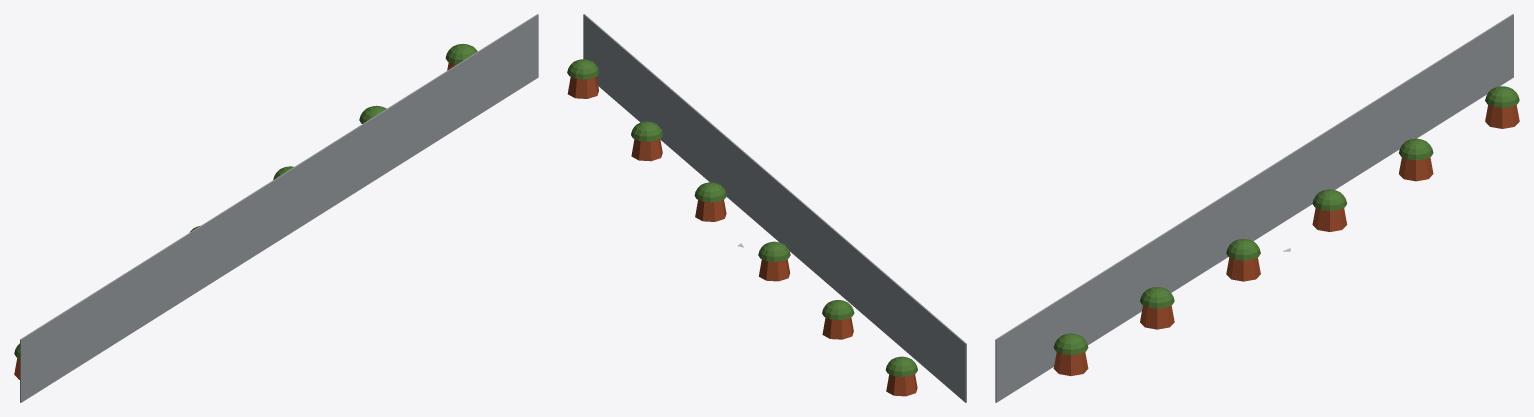
The model's file is r39_fenceplanters.glb.
3 renders of one model, left to right at view 1: azimuth 90°, elevation 25°; view 2: azimuth 150°, elevation 25°; view 3: azimuth 270°, elevation 25°, orthographic. The views are drawn at different scales.
Visible parts, largest first — view 1: r39_fenceplanters_lod0; view 2: r39_fenceplanters_lod0; view 3: r39_fenceplanters_lod0.
Boxes of the visible parts, left/top/right/bottom form: r39_fenceplanters_lod0: left=14, top=14, right=538, bottom=402; r39_fenceplanters_lod0: left=567, top=14, right=966, bottom=402; r39_fenceplanters_lod0: left=995, top=14, right=1519, bottom=402.
Size of what is drawn, in the model's own units: 19.94 by 2.03 by 13.57.
